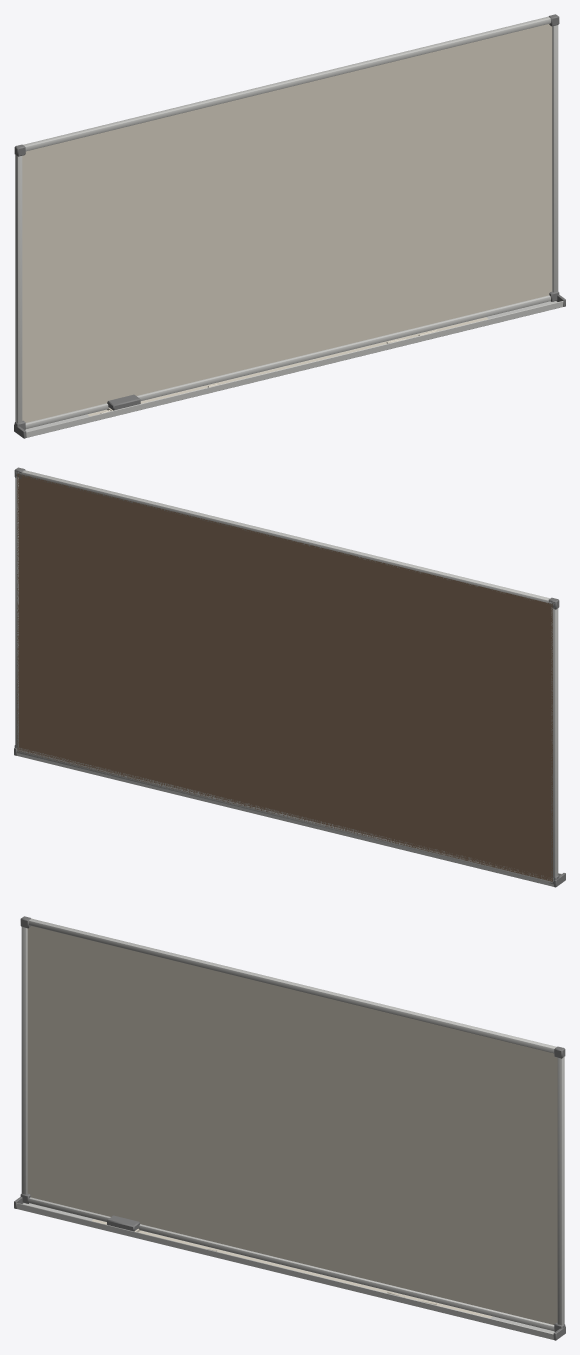
Rendered from Kit_MarkerBoard_Chalk.fbx.
3 views of the same model, one above another, from view 1: azimuth 30°, elevation 25°; view 2: azimuth 150°, elevation 25°; view 3: azimuth 330°, elevation 25° (orthographic).
Visible parts, largest first — view 1: Kit_MarkerBoard_Chalk_LOD0; view 2: Kit_MarkerBoard_Chalk_LOD0; view 3: Kit_MarkerBoard_Chalk_LOD0.
Boxes of the visible parts, x1,y1,x2,y2 form: Kit_MarkerBoard_Chalk_LOD0: (14, 14, 565, 438); Kit_MarkerBoard_Chalk_LOD0: (14, 467, 565, 887); Kit_MarkerBoard_Chalk_LOD0: (14, 916, 565, 1340).
Size of what is drawn, in the model's own units: 2.45 by 1.23 by 0.079.
